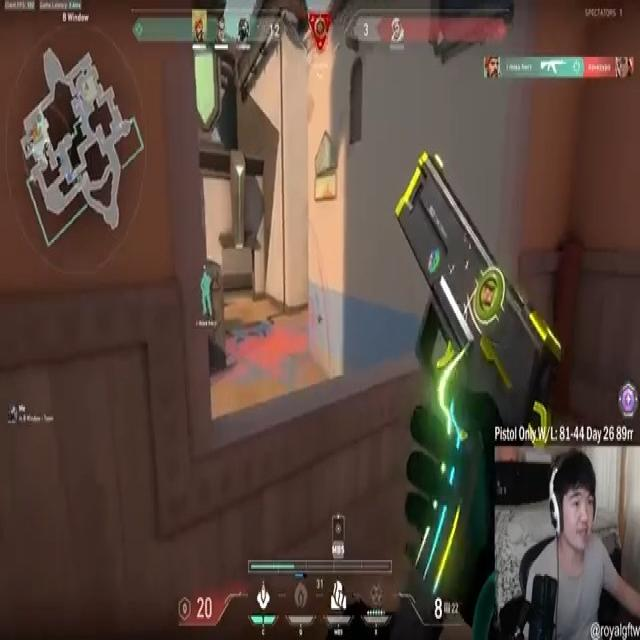ally behind wall: (200, 268, 212, 315)
